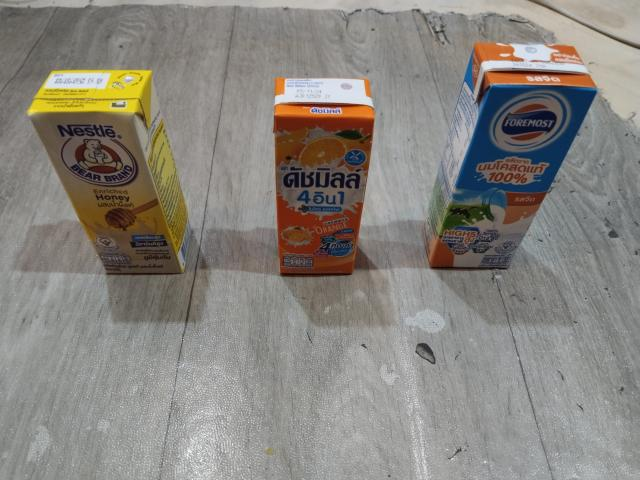drink_box: (413, 35, 606, 278), (22, 64, 199, 277), (270, 73, 377, 282)
